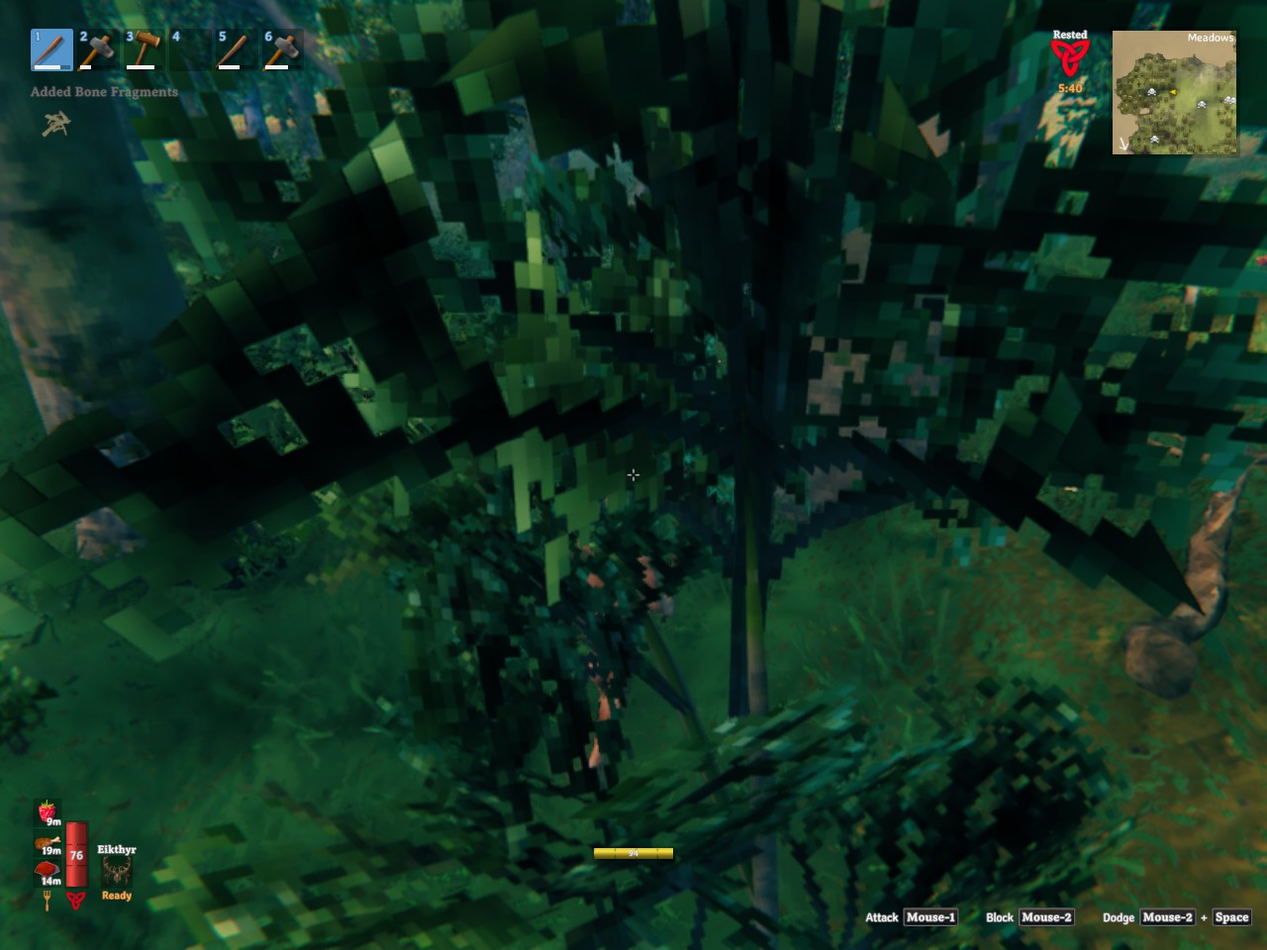Food Indicator: (36, 797, 63, 891)
Health Bar: (63, 820, 90, 891)
Hotbar: (25, 21, 398, 78)
Stamina Bar: (590, 845, 684, 862)
Status Indicator: (1039, 25, 1106, 101)
